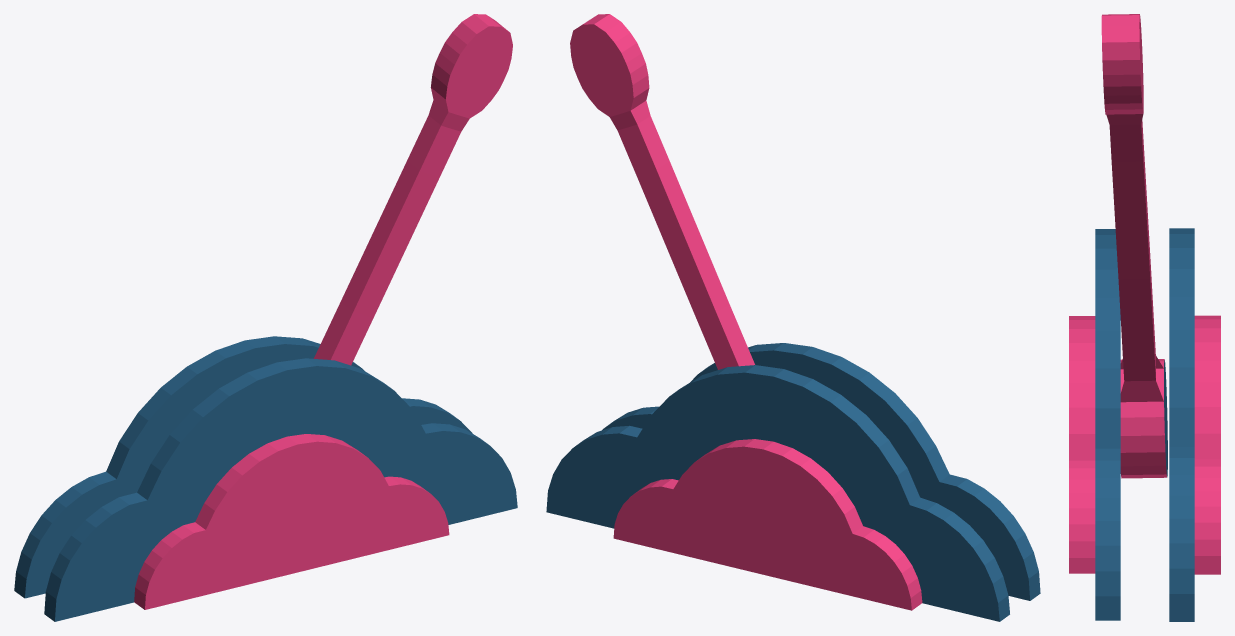
Rendered from lever_animation.fbx.
3 views of the same model, side by side, from view 1: azimuth 30°, elevation 25°; view 2: azimuth 150°, elevation 25°; view 3: azimuth 270°, elevation 25° (orthographic). The views are drawn at different scales.
Visible parts, largest first — view 1: Circle.001, Circle.000; view 2: Circle.001, Circle.000; view 3: Circle.001, Circle.000.
Part boxes in pixels (x1,y1,x2,y2): Circle.001: [14, 336, 517, 621]; Circle.000: [313, 14, 512, 365]; Circle.001: [546, 343, 1040, 621]; Circle.000: [570, 14, 754, 369]; Circle.001: [1069, 228, 1220, 621]; Circle.000: [1101, 14, 1167, 478].
Bounding box in the file's own units: 498 × 501 × 117.
